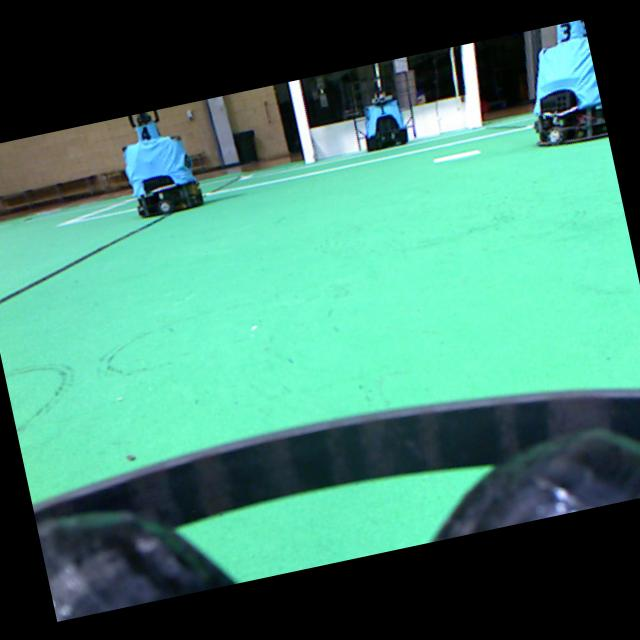goal: (288, 79, 314, 163), (460, 42, 481, 128)
